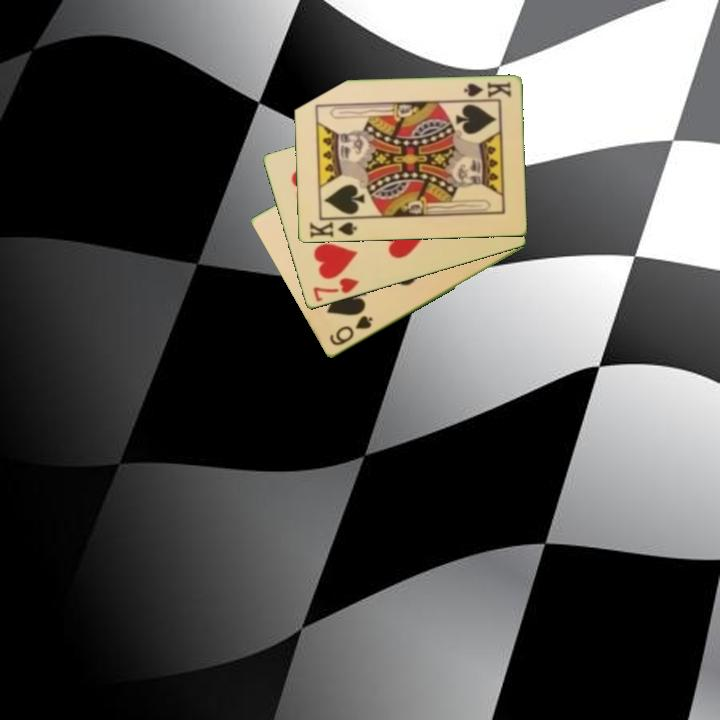6s: (326, 312, 376, 349)
7h: (309, 274, 362, 305)
Ks: (460, 79, 514, 101), (306, 219, 359, 241)
